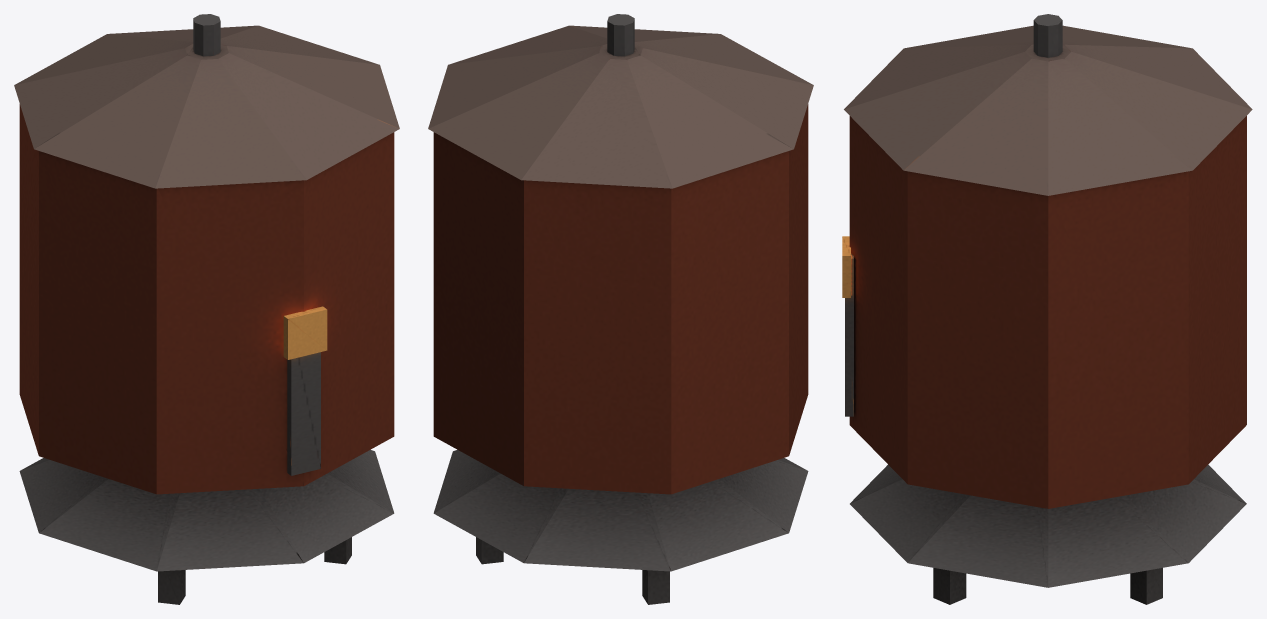
File: ore_tank_1_kiln.glb
3 views of the same model, side by side, from view 1: azimuth 30°, elevation 25°; view 2: azimuth 150°, elevation 25°; view 3: azimuth 270°, elevation 25° (orthographic). The views are drawn at different scales.
Parts seen in each view (by area): view 1: Cone; view 2: Cone; view 3: Cone.
Boxes of the visible parts, x1,y1,x2,y2 form: Cone: (14, 14, 399, 604); Cone: (428, 14, 813, 604); Cone: (842, 14, 1252, 604).
Bounding box in the file's own units: 14.1 × 20.4 × 14.15.
Materials: 1 (1 with a texture image).
